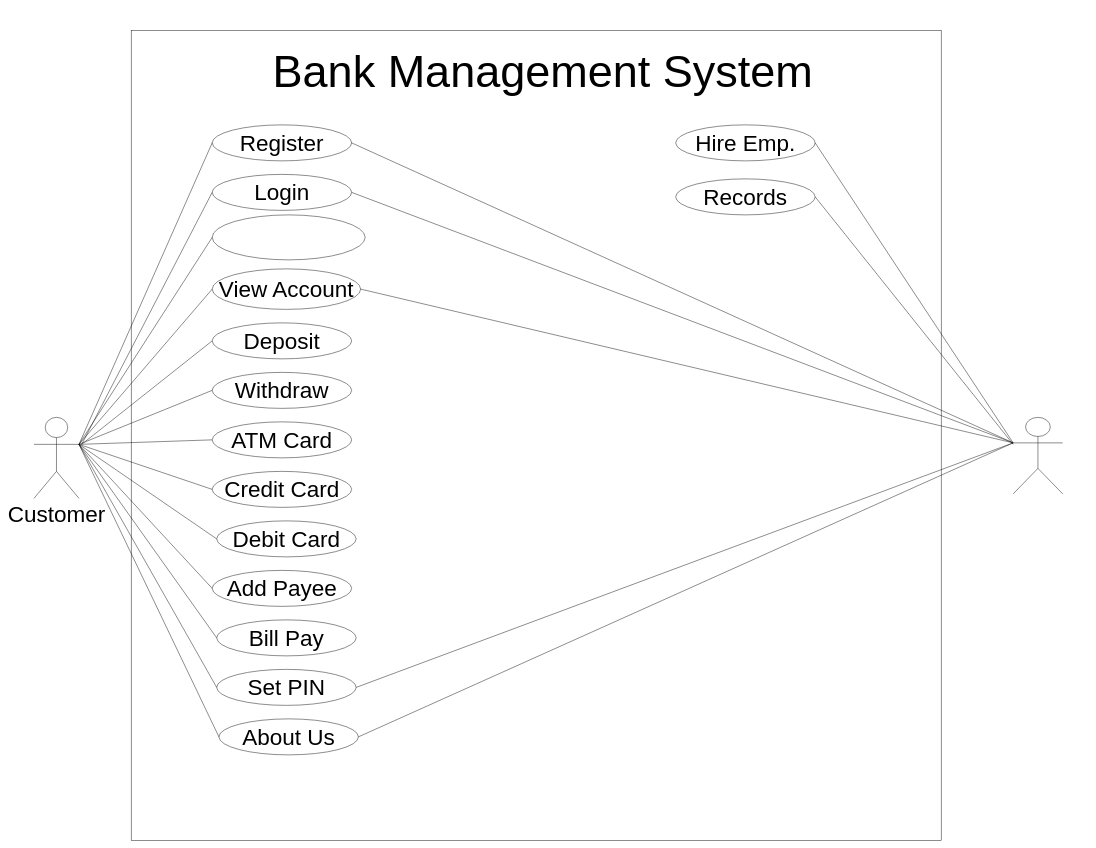
Image size: 1096x848. Some labels were removed from this diagram. The shapes that lost their labels are listed below. From the top down, each one's centre as x and y in pixels, then its label:
At (288,237): "New Account".
At (1038,455): "Employee".
